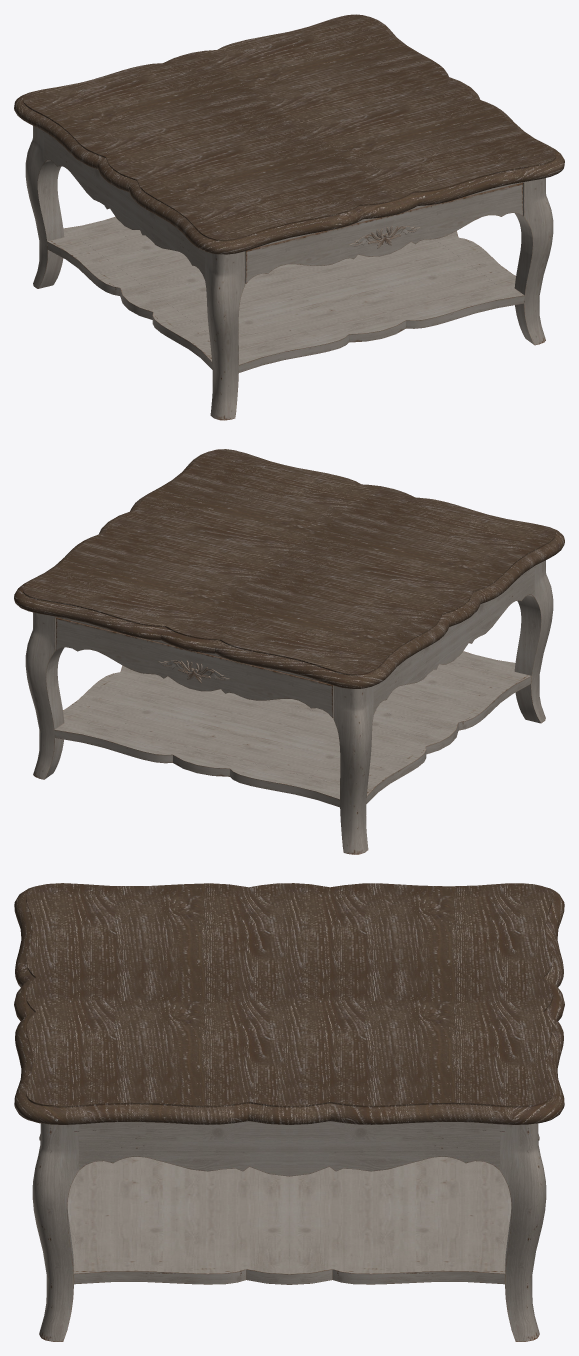
The model's file is example109.glb.
The picture shows the model from 3 angles, top to bottom: view 1: azimuth 30°, elevation 25°; view 2: azimuth 150°, elevation 25°; view 3: azimuth 270°, elevation 25°; orthographic projection. The views are drawn at different scales.
Parts seen in each view (by area): view 1: DQQ1.Top, DQQ1.001; view 2: DQQ1.Top, DQQ1.001; view 3: DQQ1.Top, DQQ1.001.
Part boxes in pixels (x1,y1,x2,y2): DQQ1.Top: [14, 14, 564, 254]; DQQ1.001: [25, 126, 553, 420]; DQQ1.Top: [14, 449, 564, 688]; DQQ1.001: [25, 560, 553, 854]; DQQ1.Top: [14, 883, 564, 1124]; DQQ1.001: [32, 1121, 546, 1341].
Size of the model in its own units: 0.9 by 0.4356 by 0.9.
Materials: 2 (2 with a texture image).
